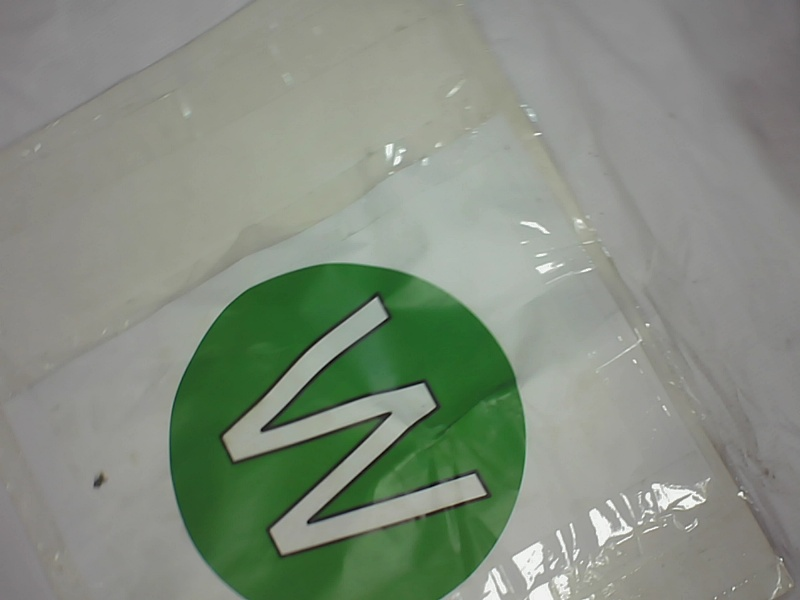areaB: (154, 263, 533, 599)
